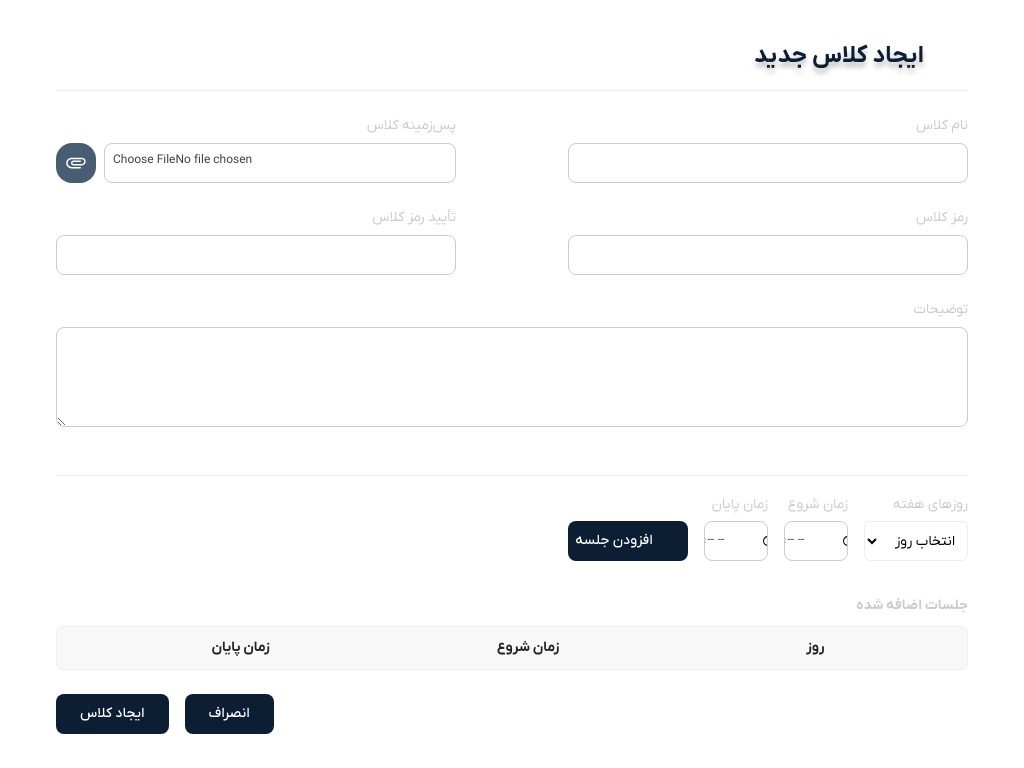
Test: ClassForm Component - Create Mode › should display an error when start time is not before end time
Select "یکشنبه" in the dropdown labelled "روزهای هفته" at (916, 541), box [864,521,968,561]
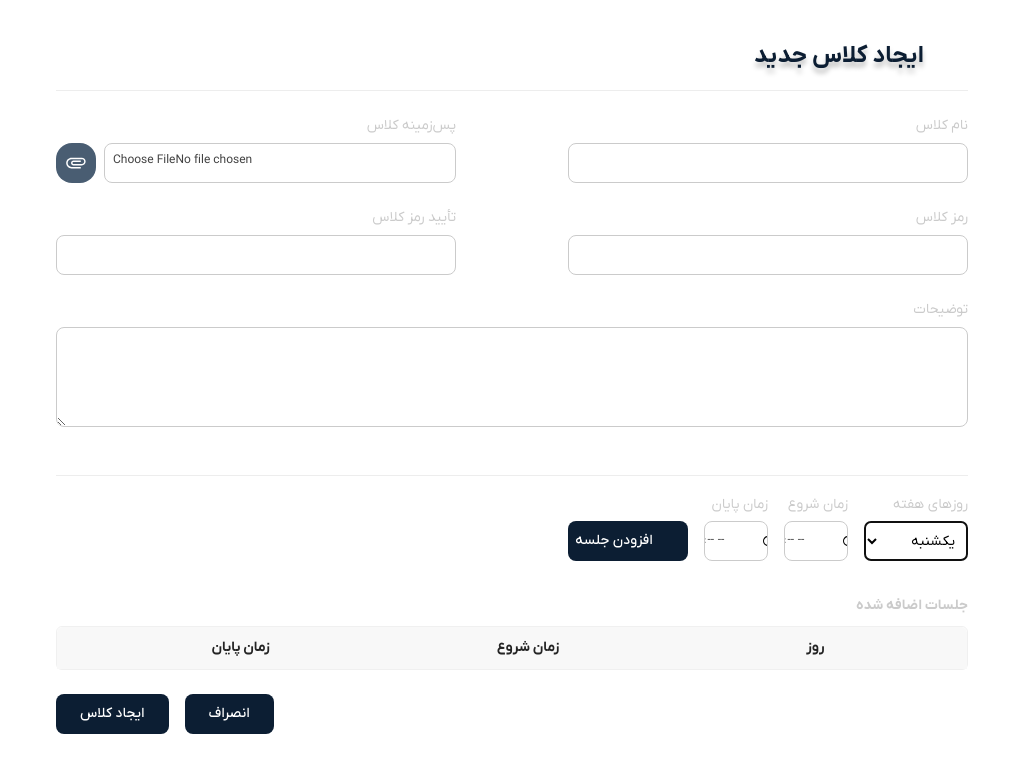
Type "14:00" into the time field labelled "زمان‌ شروع" at (816, 541), box [784,521,848,561]
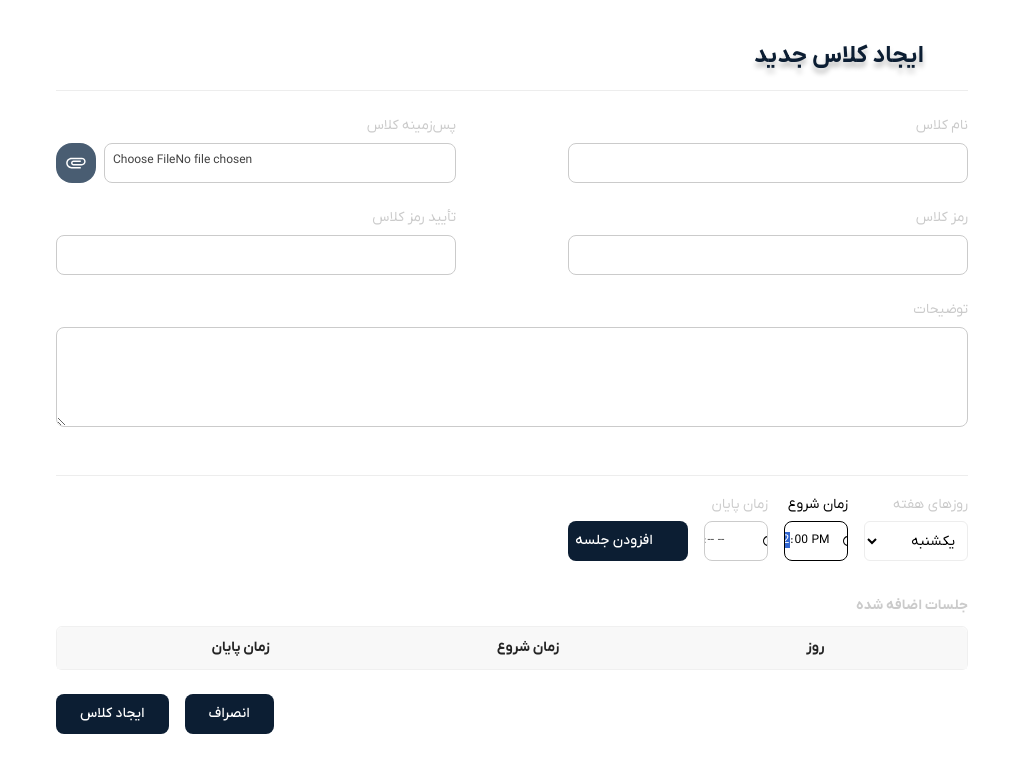
Type "10:00" into the time field labelled "زمان پایان" at (736, 541), box [704,521,768,561]
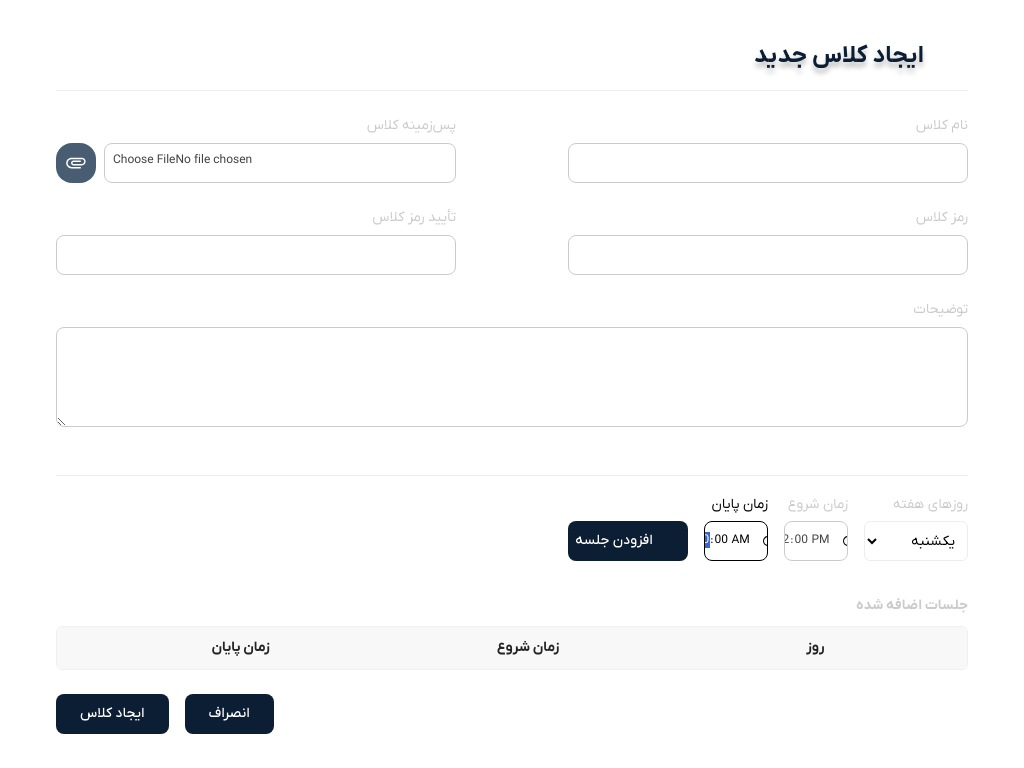
Click the button "افزودن جلسه" at (628, 541), box [568,521,688,561]
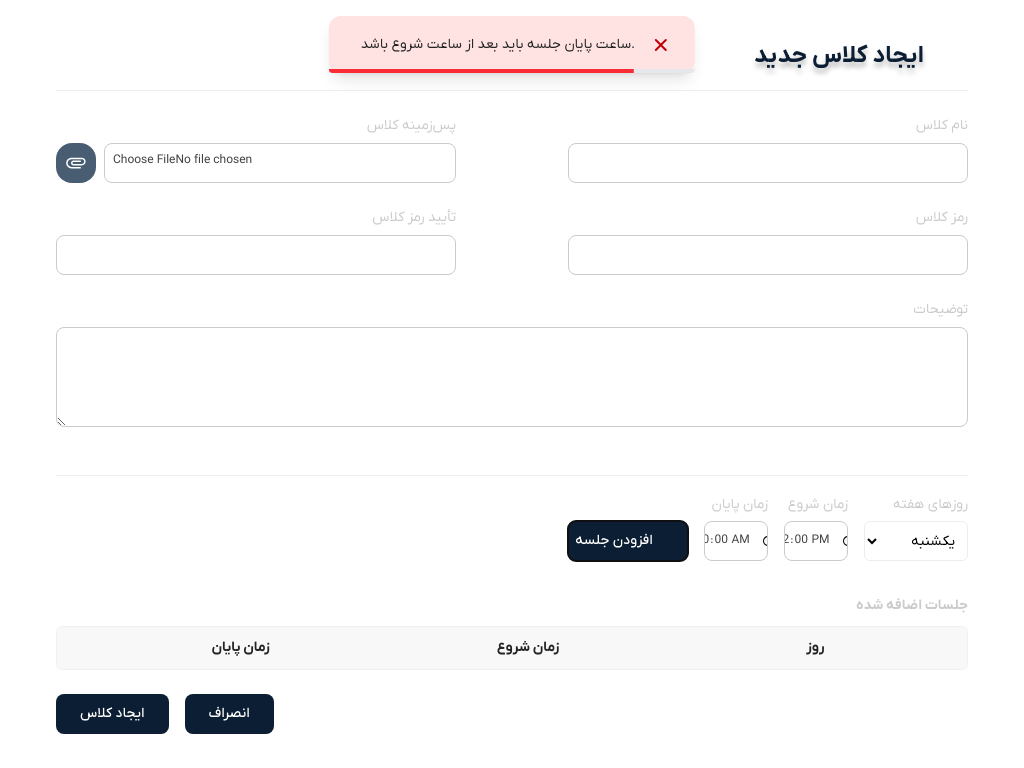
Now the text "ساعت پایان جلسه باید بعد از ساعت شروع باشد." is shown, box [361,35,635,54]
